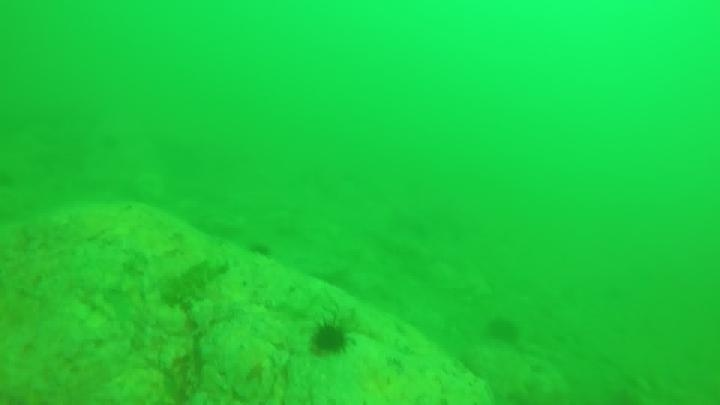echinus: (307, 318, 352, 359), (484, 315, 522, 346), (246, 239, 274, 261)
holothurian: (158, 254, 230, 309)
